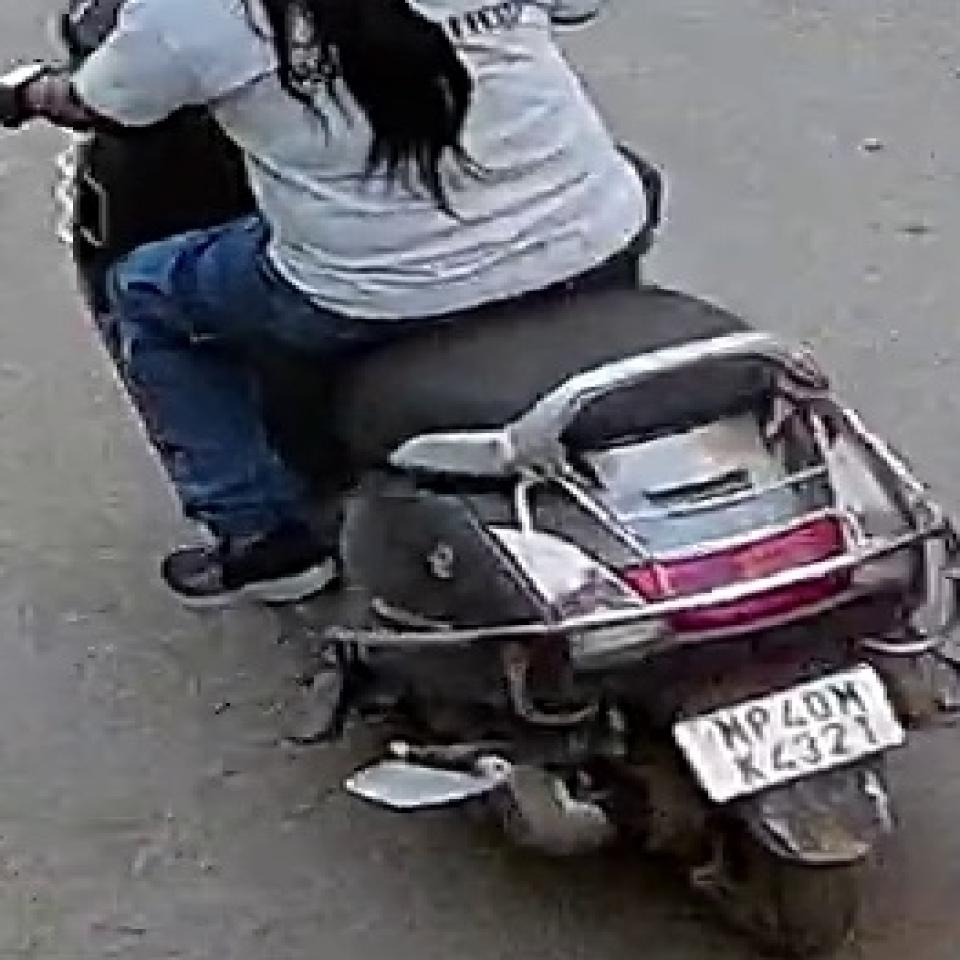tail_light: (635, 514, 862, 646)
